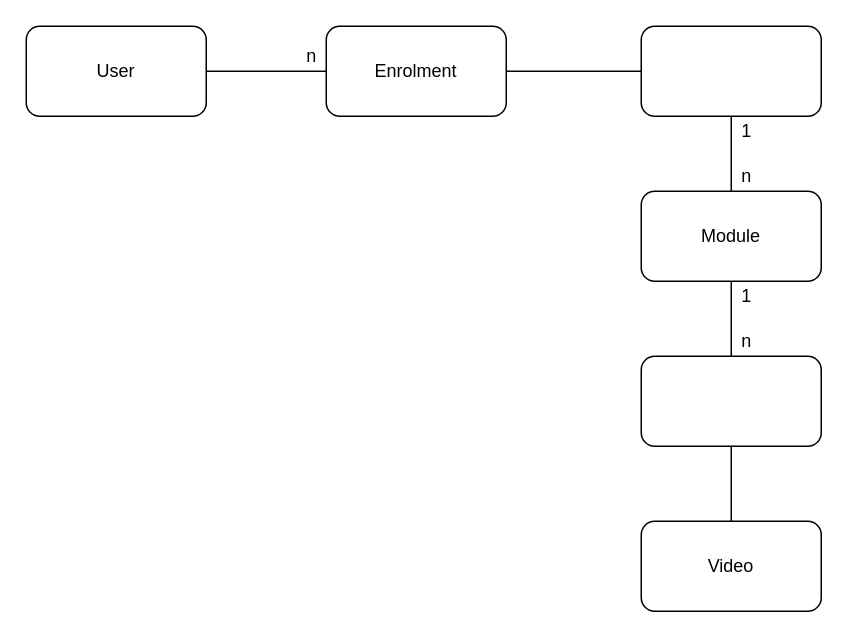
Some shapes in this 848 by 638 pixel diagram are drawn without their labels. Here are the shapes that lost their labels. From the top down, the centre of each, then its label:
At point (730, 70): "Course".
At point (730, 400): "Lecture".
